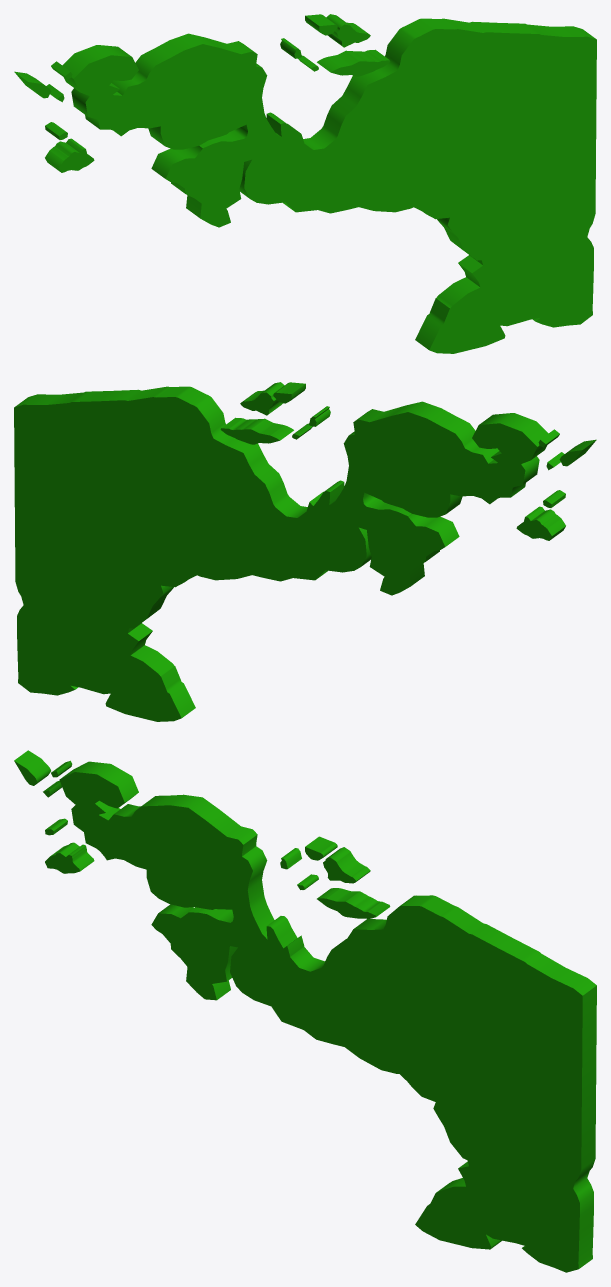
The model's file is pulau_papua.glb.
3 renders of one model, top to bottom at view 1: azimuth 30°, elevation 25°; view 2: azimuth 150°, elevation 25°; view 3: azimuth 330°, elevation 25°, orthographic.
Visible parts, largest first — view 1: Object_19, Object_21, Object_9, Object_17, Object_25; view 2: Object_19, Object_21, Object_9, Object_17, Object_25; view 3: Object_19, Object_21, Object_17, Object_9, Object_13.
Part boxes in pixels (x1=…): Object_19: x1=62, y1=18, x2=596, y2=353; Object_21: x1=317, y1=49, x2=390, y2=76; Object_9: x1=45, y1=138, x2=94, y2=172; Object_17: x1=326, y1=14, x2=370, y2=47; Object_25: x1=305, y1=14, x2=337, y2=35; Object_19: x1=14, y1=386, x2=548, y2=721; Object_21: x1=220, y1=417, x2=293, y2=444; Object_9: x1=516, y1=506, x2=565, y2=540; Object_17: x1=240, y1=382, x2=284, y2=415; Object_25: x1=273, y1=382, x2=305, y2=403; Object_19: x1=59, y1=761, x2=596, y2=1272; Object_21: x1=317, y1=888, x2=390, y2=918; Object_17: x1=323, y1=847, x2=370, y2=883; Object_9: x1=45, y1=842, x2=94, y2=873; Object_13: x1=14, y1=750, x2=50, y2=785.
Size of the model in its own units: 2.31 by 1.49 by 0.1.
11 materials, 11 textured.
